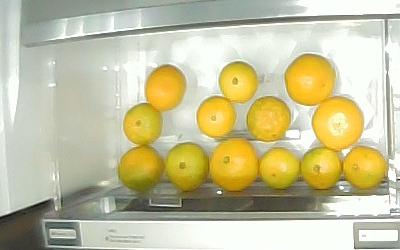tangerine: (312, 97, 364, 151), (285, 53, 335, 106), (210, 138, 258, 192), (168, 142, 209, 193), (119, 147, 165, 192), (247, 97, 290, 143), (342, 147, 385, 192), (146, 65, 186, 110), (301, 147, 343, 189), (219, 60, 259, 104), (123, 104, 164, 145), (260, 149, 302, 189), (196, 96, 235, 136)
